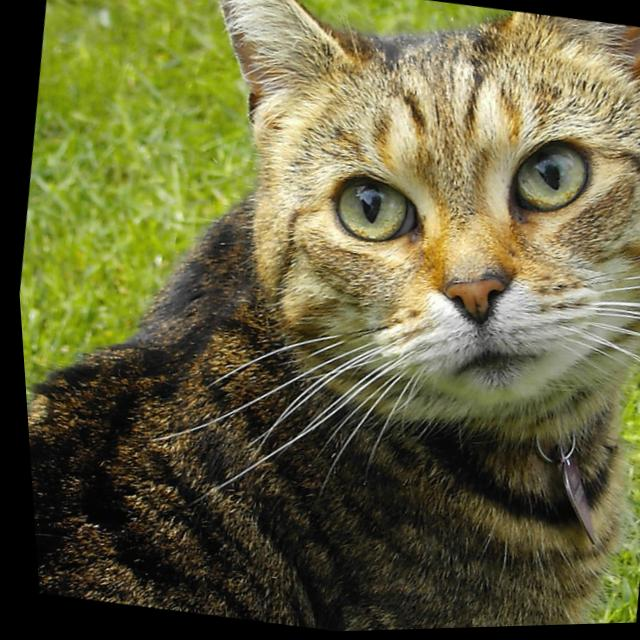animals: (165, 0, 640, 356)
